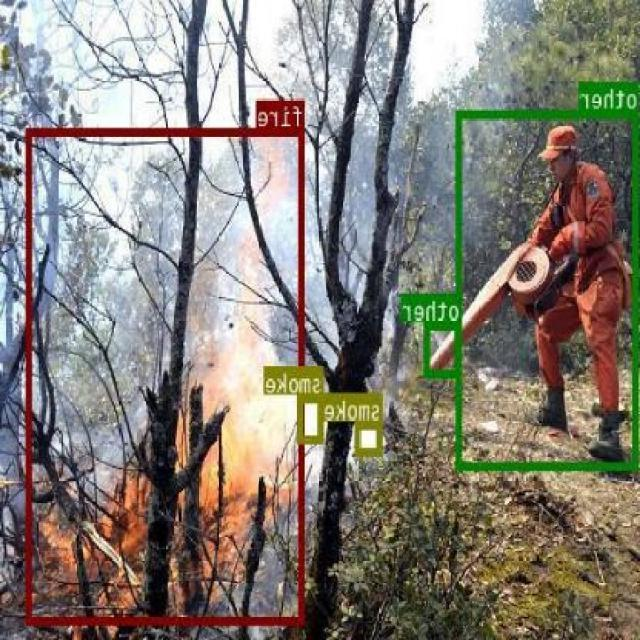Fire: (27, 126, 306, 623)
Smoke: (298, 394, 324, 442), (357, 420, 383, 454)
